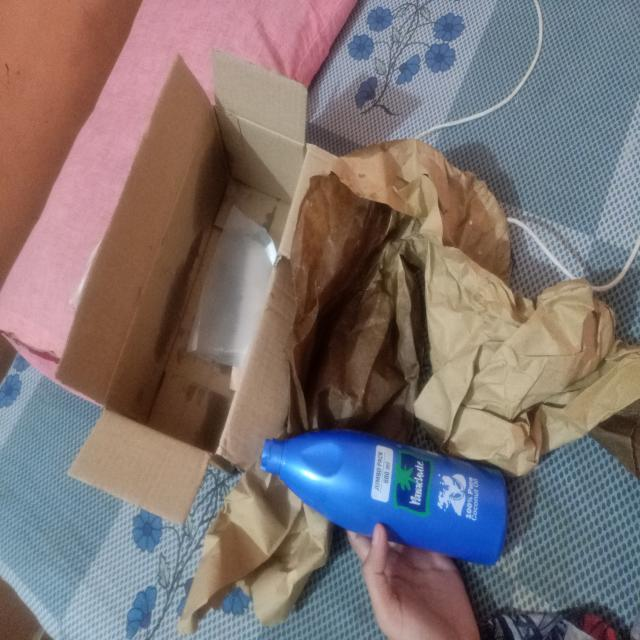parachute_oil: (255, 432, 512, 570)
